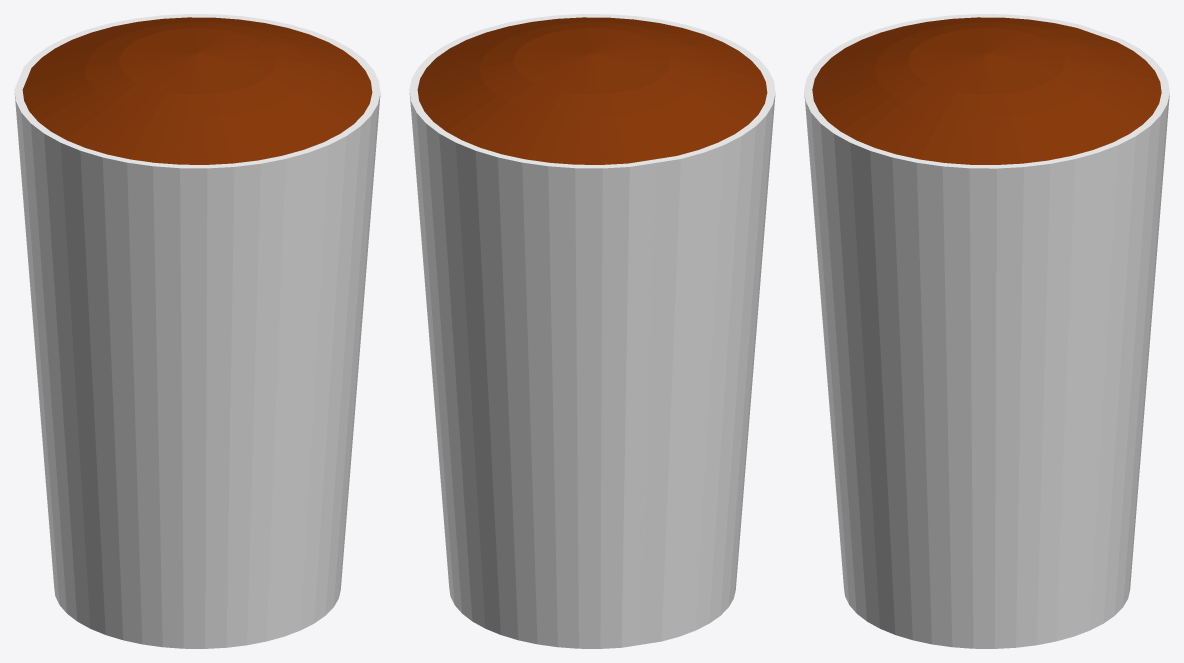
Rendered from Full.fbx.
3 renders of one model, left to right at view 1: azimuth 30°, elevation 25°; view 2: azimuth 150°, elevation 25°; view 3: azimuth 270°, elevation 25°, orthographic.
Parts seen in each view (by area): view 1: coffee_cup.003; view 2: coffee_cup.003; view 3: coffee_cup.003.
Boxes of the visible parts, x1,y1,x2,y2 form: coffee_cup.003: [14, 14, 380, 648]; coffee_cup.003: [409, 14, 775, 648]; coffee_cup.003: [804, 14, 1169, 648].
Bounding box in the file's own units: 8 × 12.92 × 8.
